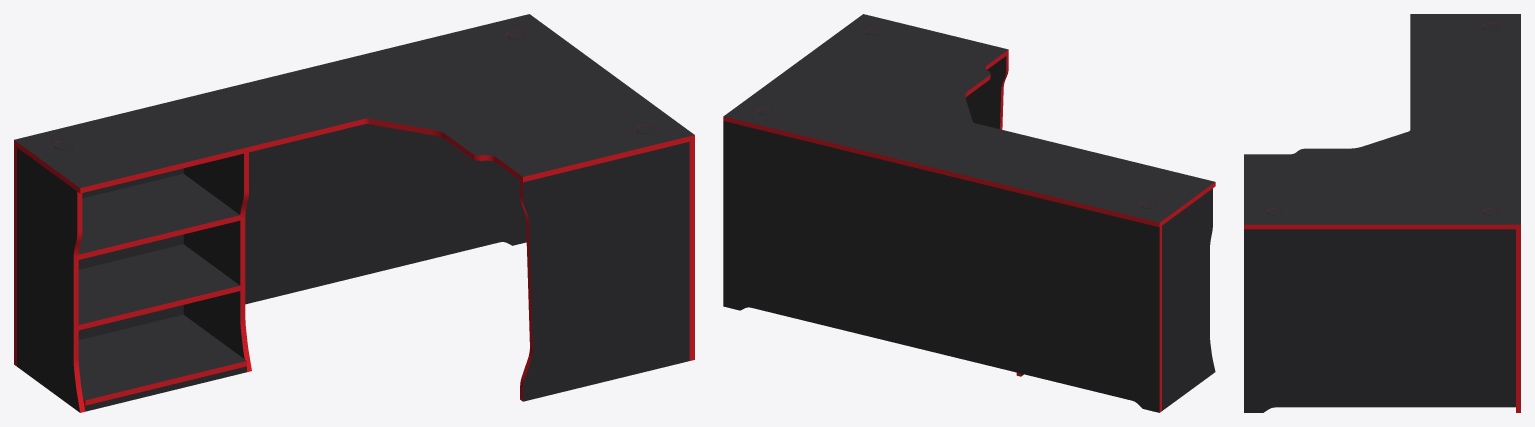
The model's file is Revolver-2.glb.
3 views of the same model, side by side, from view 1: azimuth 30°, elevation 25°; view 2: azimuth 150°, elevation 25°; view 3: azimuth 270°, elevation 25° (orthographic). The views are drawn at different scales.
Parts seen in each view (by area): view 1: L-shaped worktop, Full long rear wall, Right return shaped end, Shelf outer shaped side, Shelf 1, Shelf 2, Shelf 3, Shelf inner shaped side, L-shaped worktop | Edge, Full short rear wall | Edge, Shelf outer shaped side | Edge, Shelf inner shaped side | Edge (+6 smaller); view 2: Full long rear wall, L-shaped worktop, Shelf outer shaped side, L-shaped worktop | Edge, Right return shaped end, Full long rear wall | Edge; view 3: Full short rear wall, L-shaped worktop, L-shaped worktop | Edge, Full long rear wall | Edge.
Part boxes in pixels (box(x1,y1,x2,y2)): L-shaped worktop: box(14, 14, 694, 187); Full long rear wall: box(78, 124, 526, 339); Right return shaped end: box(523, 142, 689, 401); Shelf outer shaped side: box(17, 147, 79, 412); Shelf 1: box(78, 314, 246, 400); Shelf 2: box(78, 244, 239, 324); Shelf 3: box(79, 174, 239, 254); Shelf inner shaped side: box(183, 153, 244, 358); L-shaped worktop | Edge: box(14, 30, 694, 193); Full short rear wall | Edge: box(689, 140, 694, 360); Shelf outer shaped side | Edge: box(73, 192, 85, 412); Shelf inner shaped side | Edge: box(240, 152, 251, 372); Full long rear wall: box(723, 121, 1159, 412); L-shaped worktop: box(724, 14, 1214, 222); Shelf outer shaped side: box(1162, 188, 1215, 410); L-shaped worktop | Edge: box(723, 28, 1215, 227); Right return shaped end: box(965, 56, 1006, 128); Full long rear wall | Edge: box(1159, 226, 1161, 412); Full short rear wall: box(1244, 229, 1515, 412); L-shaped worktop: box(1244, 14, 1520, 224); L-shaped worktop | Edge: box(1244, 23, 1520, 229); Full long rear wall | Edge: box(1516, 229, 1520, 412).
Size of the model in its own units: 1.8 by 0.75 by 1.
